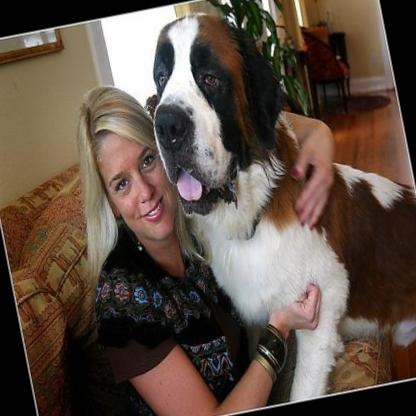Saint_Bernard: (131, 0, 416, 416)
